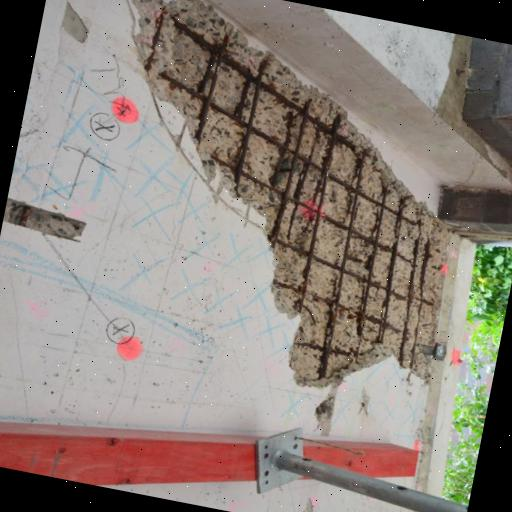spalling: (126, 0, 452, 440)
